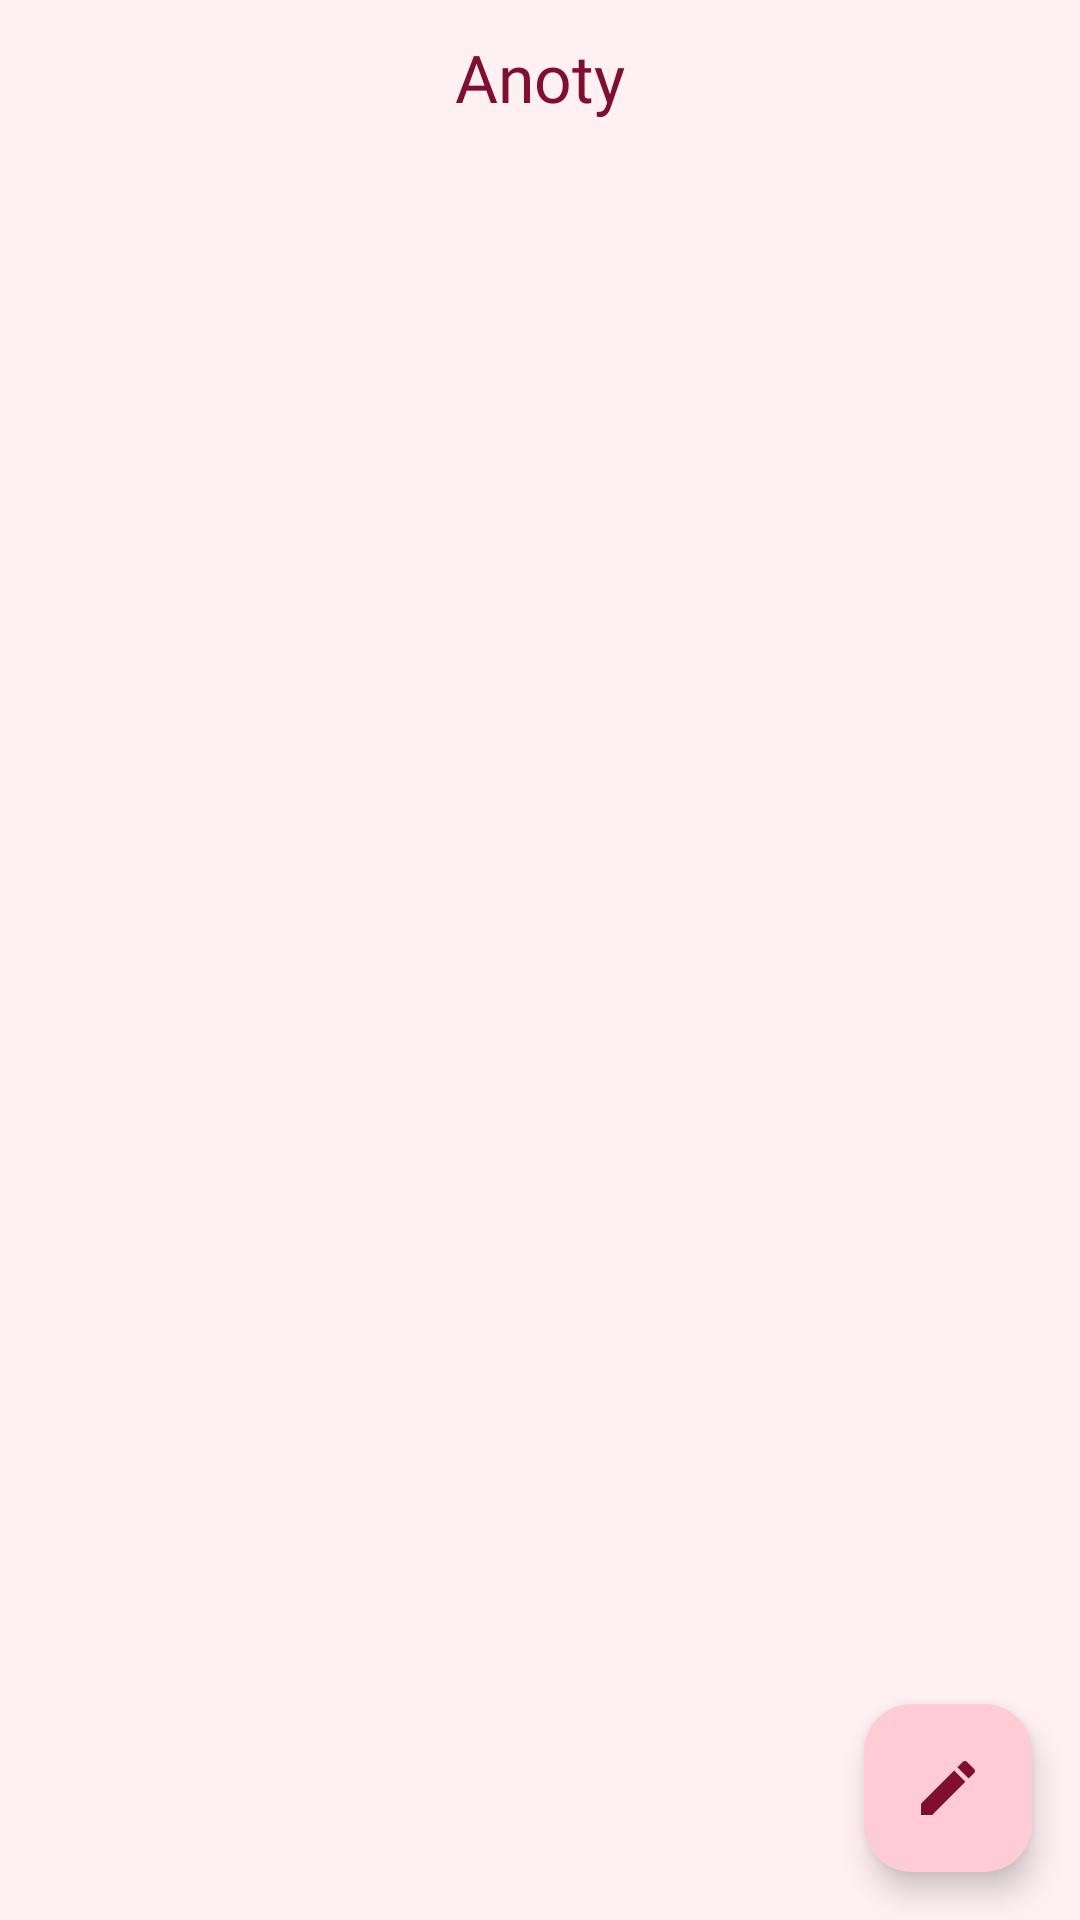

Named icons in this screenshot (1080 × 1920) and their centers, (x=x, y=y):
Floating Button: (x=948, y=1788)
